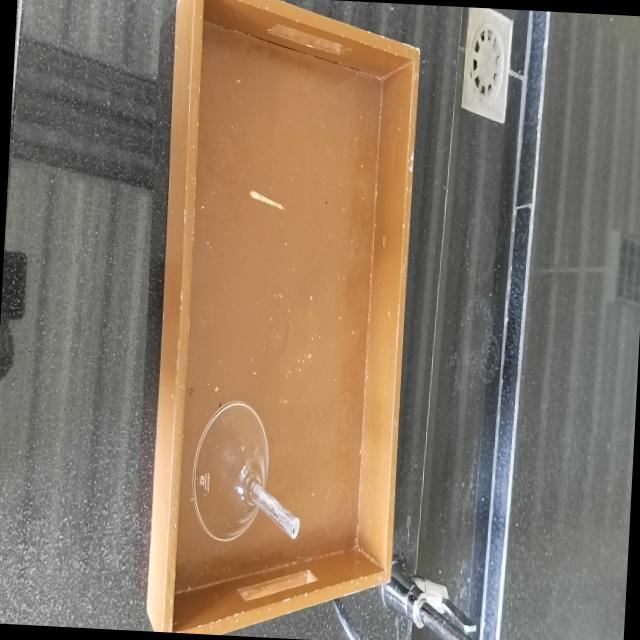funnel: (185, 392, 308, 568)
